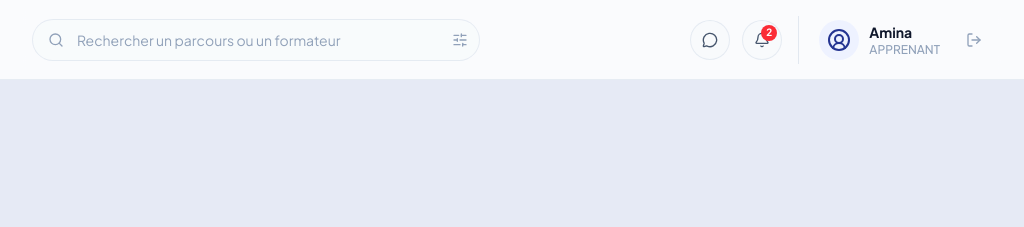
Test: Topbar › marque toutes les notifications comme lues
Click the button named "Ouvrir les notifications": (762, 40) [742,20,782,60]
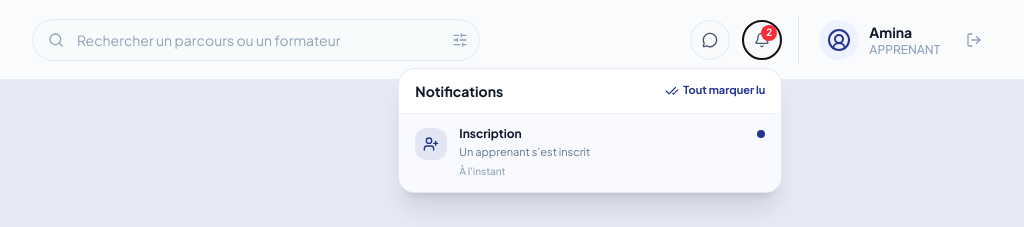
Click the button "Tout marquer lu": (715, 91) [665,82,765,99]
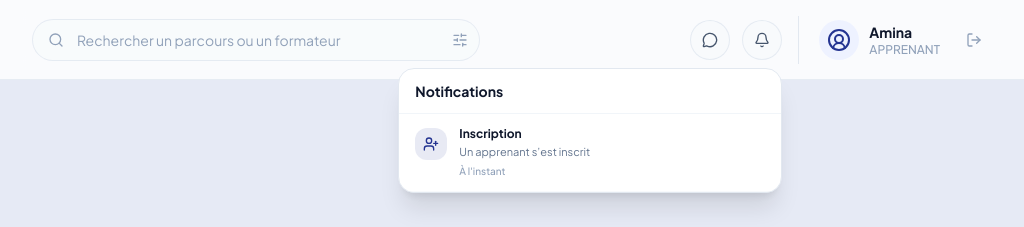
Expected: the button "Tout marquer lu" is gone
